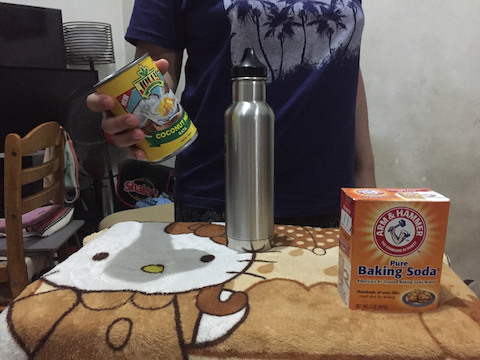bottle: (222, 46, 279, 252)
box: (335, 181, 457, 314)
can: (92, 51, 205, 158)
grab: (82, 90, 153, 165)
